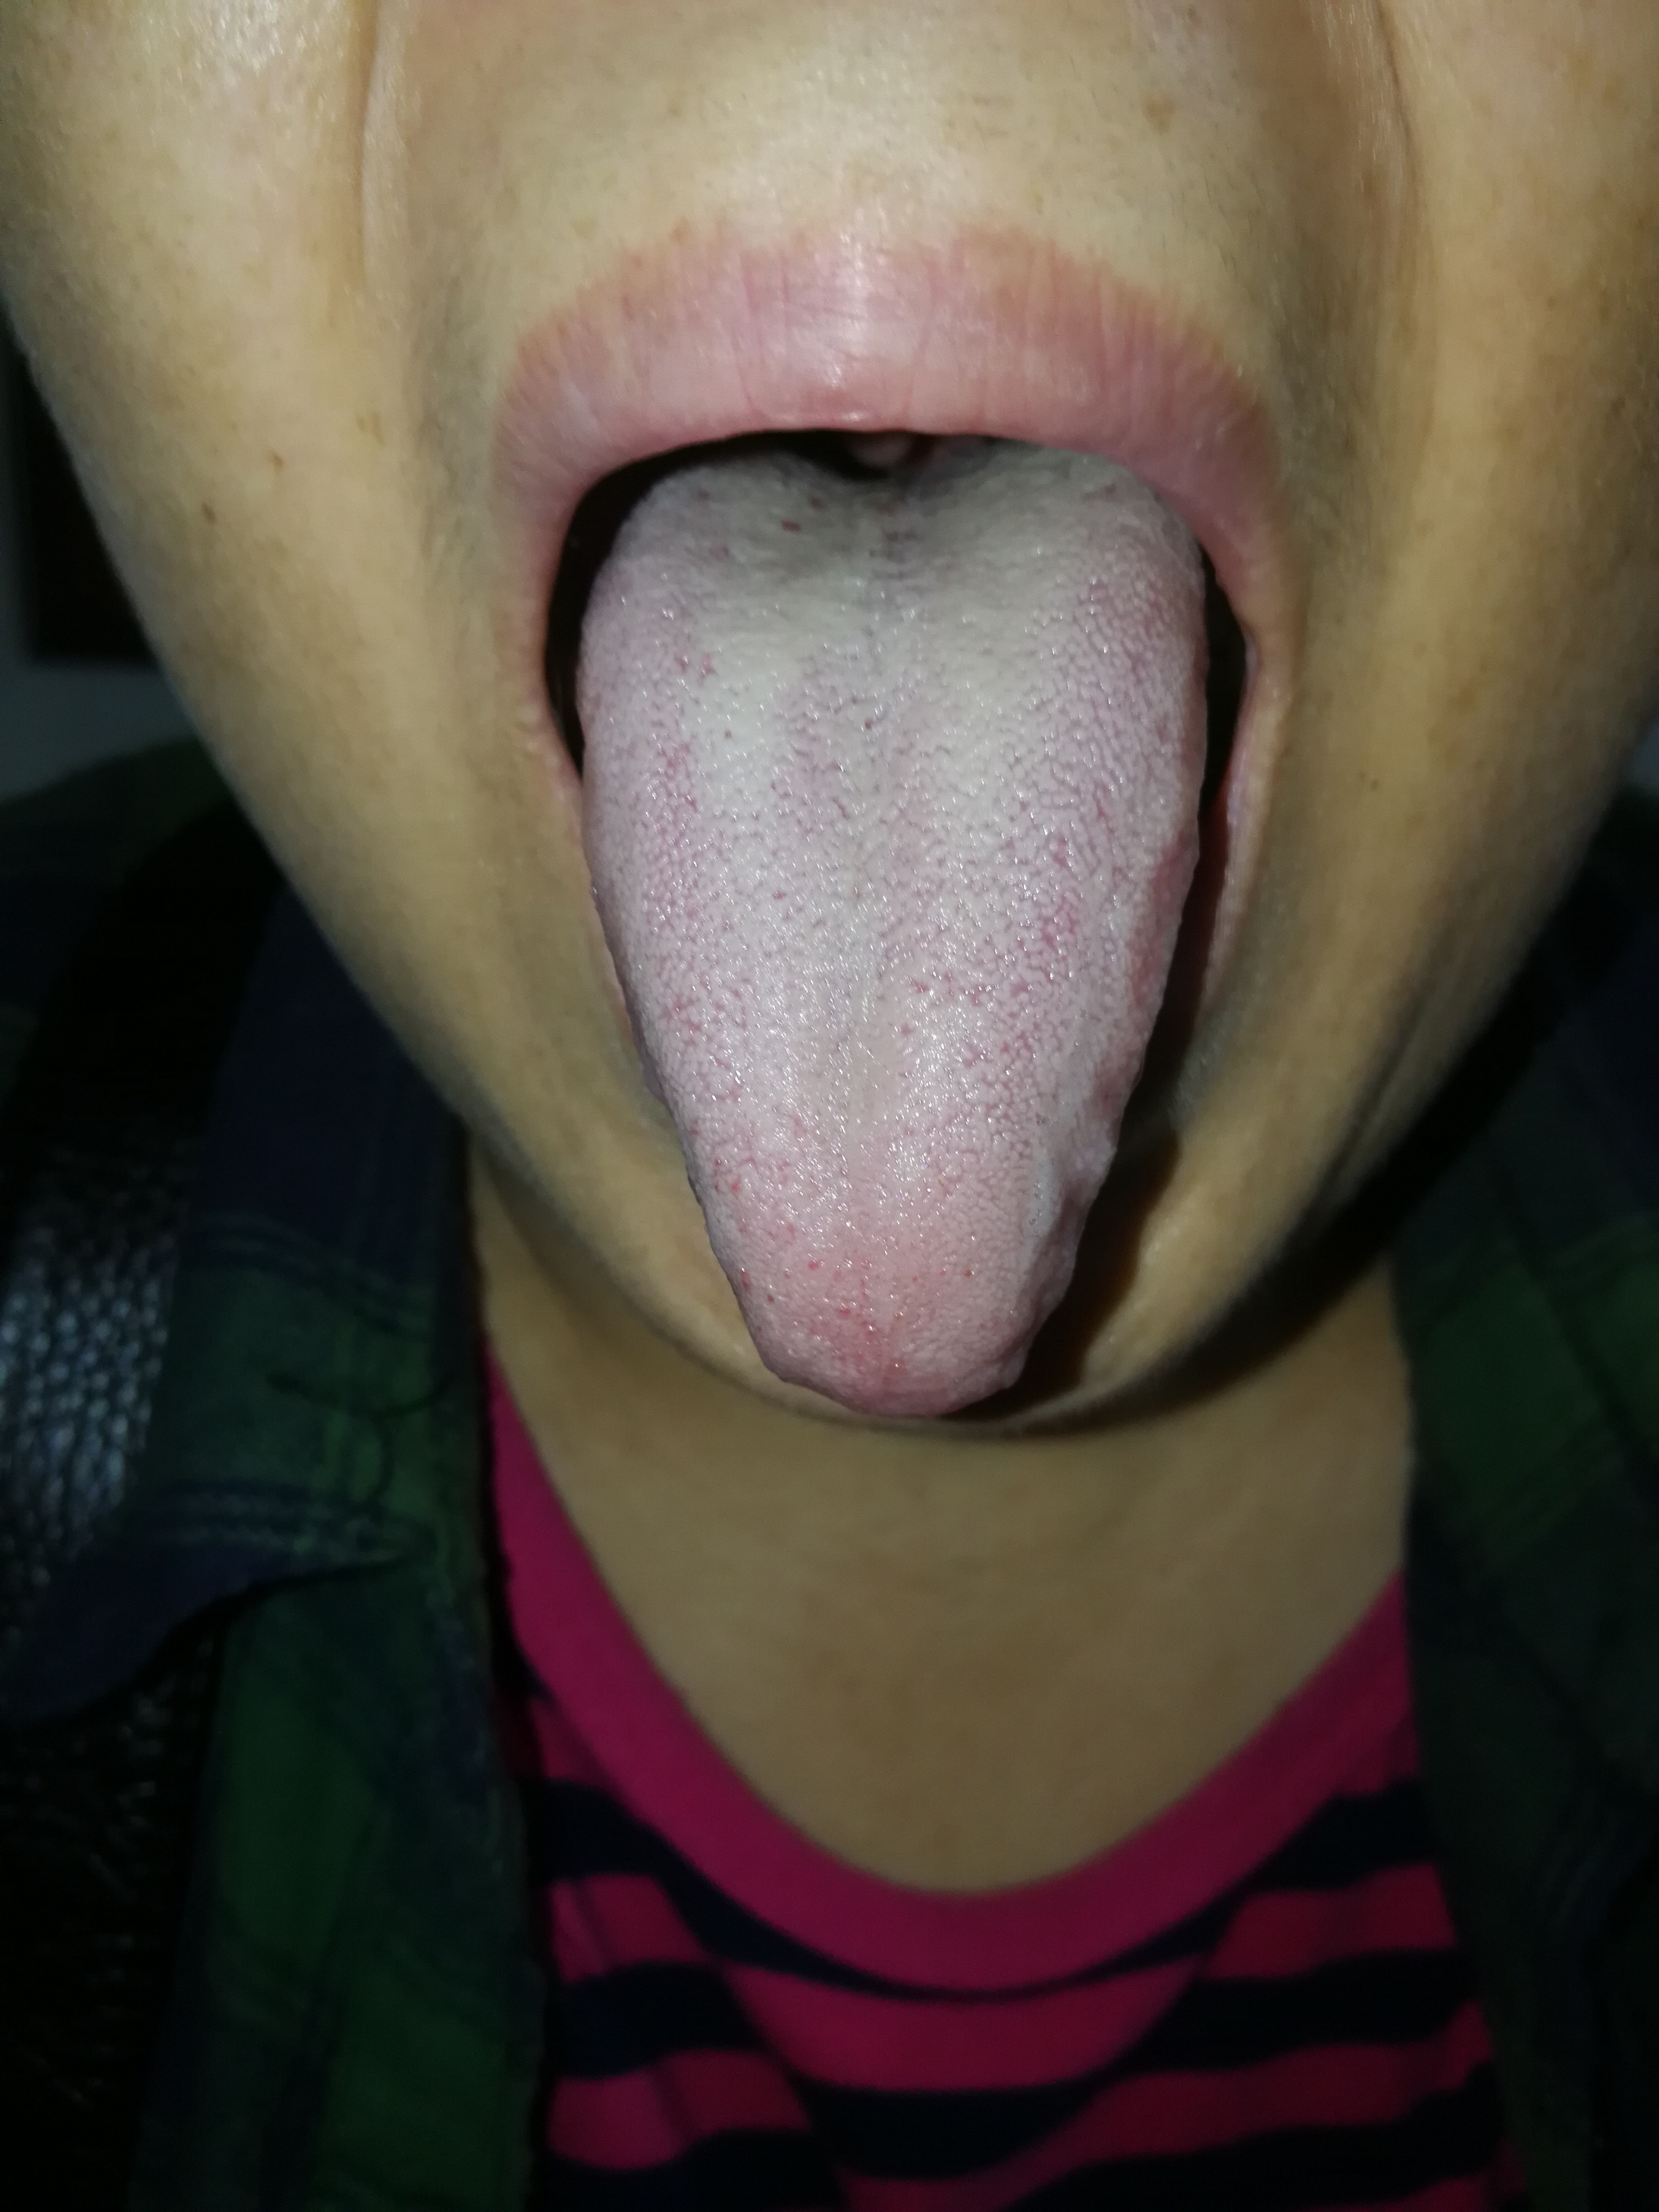tongue: (571, 426, 1232, 1433)
